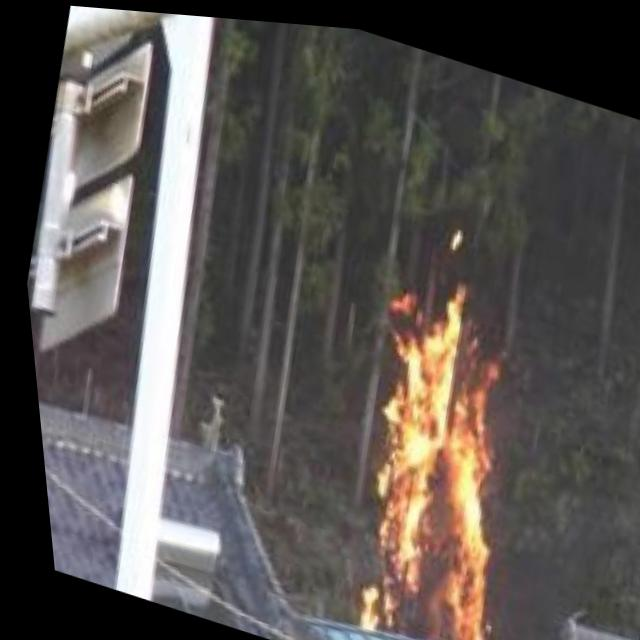Fire: (301, 255, 556, 640)
